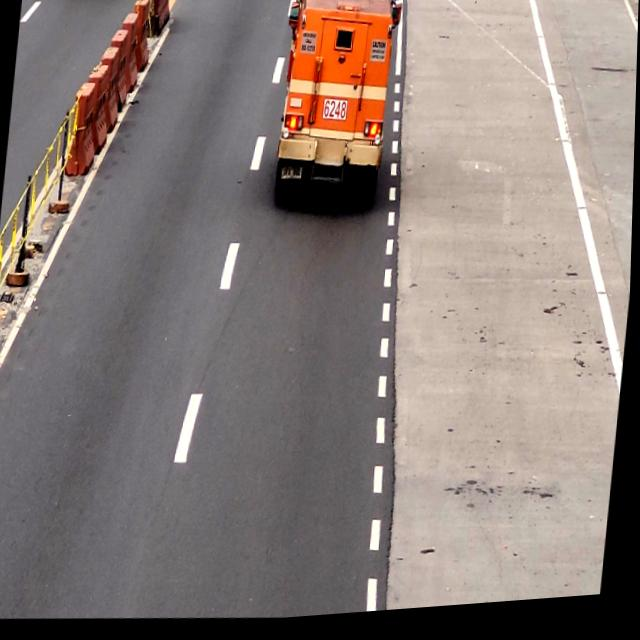License-Plate: (279, 169, 305, 185)
Truck: (272, 0, 398, 220)
